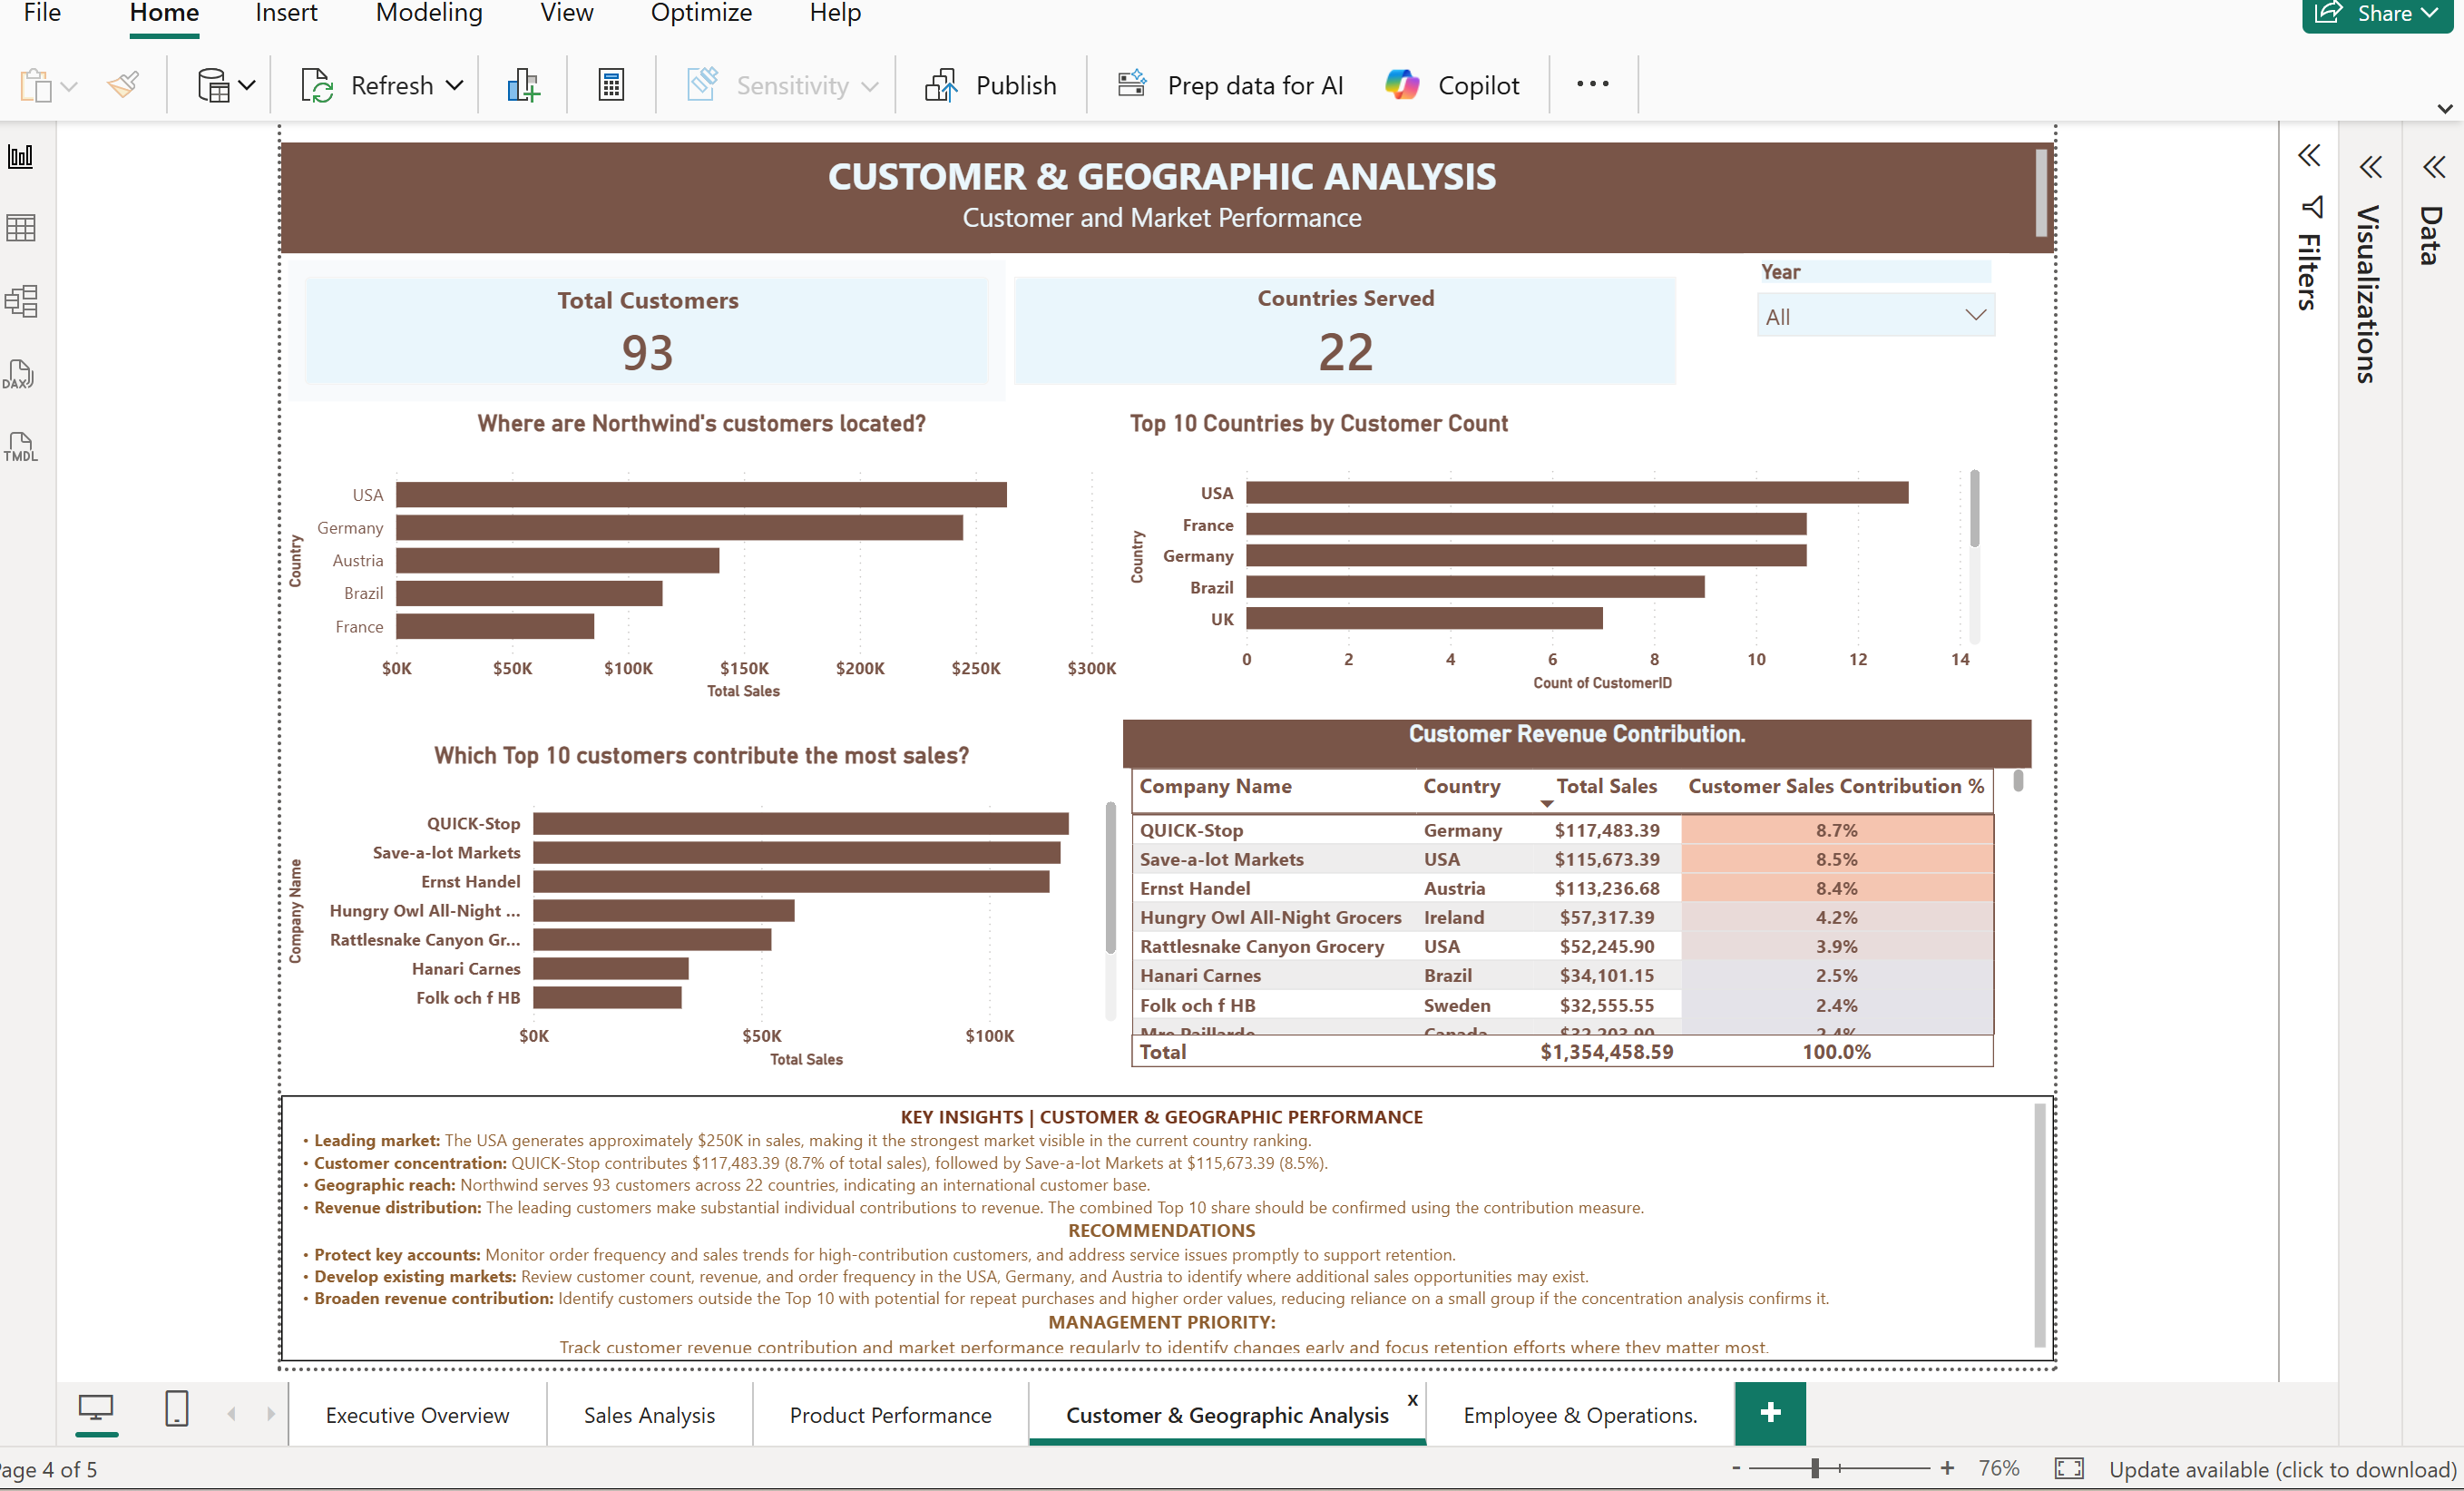

This screenshot's page, from the dashboard's own definition file:
{"tool":"powerbi","page":{"name":"Customer & Geographic Analysis","canvas":[1280,900],"ordinal":3},"visuals":[{"type":"textbox","box":[0,16,1280,80],"z":0},{"type":"cardVisual","fields":{"Data":["Categories.Countries Served"]},"box":[512,96,512,112],"z":1000},{"type":"cardVisual","fields":{"Data":["Customers.Total Customers"]},"box":[0,96,528,112],"z":2000},{"type":"clusteredBarChart","title":"Where are Northwind''s customers located?","fields":{"Category":["Customers.Country"],"Y":["OrderDetails.Total Sales"]},"box":[0,208,608,214],"z":3000},{"type":"clusteredBarChart","title":"Top 10 Countries by Customer Count","fields":{"Category":["Customers.Country"],"Y":["Count(Customers.CustomerID)"]},"box":[608,208,624,208],"z":4000},{"type":"clusteredBarChart","title":"Which Top 10 customers contribute the most sales? ","fields":{"Category":["Customers.Company Name"],"Y":["OrderDetails.Total Sales"]},"box":[0,448,608,240],"z":5000},{"type":"tableEx","title":"Customer Revenue Contribution.","fields":{"Values":["Customers.Company Name","Customers.Country","OrderDetails.Total Sales","Categories.Customer Sales Contribution %"]},"box":[608,432,656,256],"z":6000},{"type":"slicer","fields":{"Values":["Orders.OrderDate.Variation.Date Hierarchy.Year"]},"box":[1056,96,192,80],"z":7000},{"type":"textbox","box":[0,704,1280,192],"z":8000}]}

Visuals, with their boxes on the page's 1280x900 design canvas (x1, y1, x2, y2). These are canvas units, not pixel positions in the 2464x1491 screenshot, which may show the page scaled, cropped or inside an application window:
textbox: (left=0, top=16, right=1280, bottom=96)
cardVisual - Categories.Countries Served: (left=512, top=96, right=1024, bottom=208)
cardVisual - Customers.Total Customers: (left=0, top=96, right=528, bottom=208)
"Where are Northwind''s customers located?" clusteredBarChart: (left=0, top=208, right=608, bottom=422)
"Top 10 Countries by Customer Count" clusteredBarChart: (left=608, top=208, right=1232, bottom=416)
"Which Top 10 customers contribute the most sales? " clusteredBarChart: (left=0, top=448, right=608, bottom=688)
"Customer Revenue Contribution." tableEx: (left=608, top=432, right=1264, bottom=688)
slicer - Orders.OrderDate.Variation.Date Hierarchy.Year: (left=1056, top=96, right=1248, bottom=176)
textbox: (left=0, top=704, right=1280, bottom=896)
